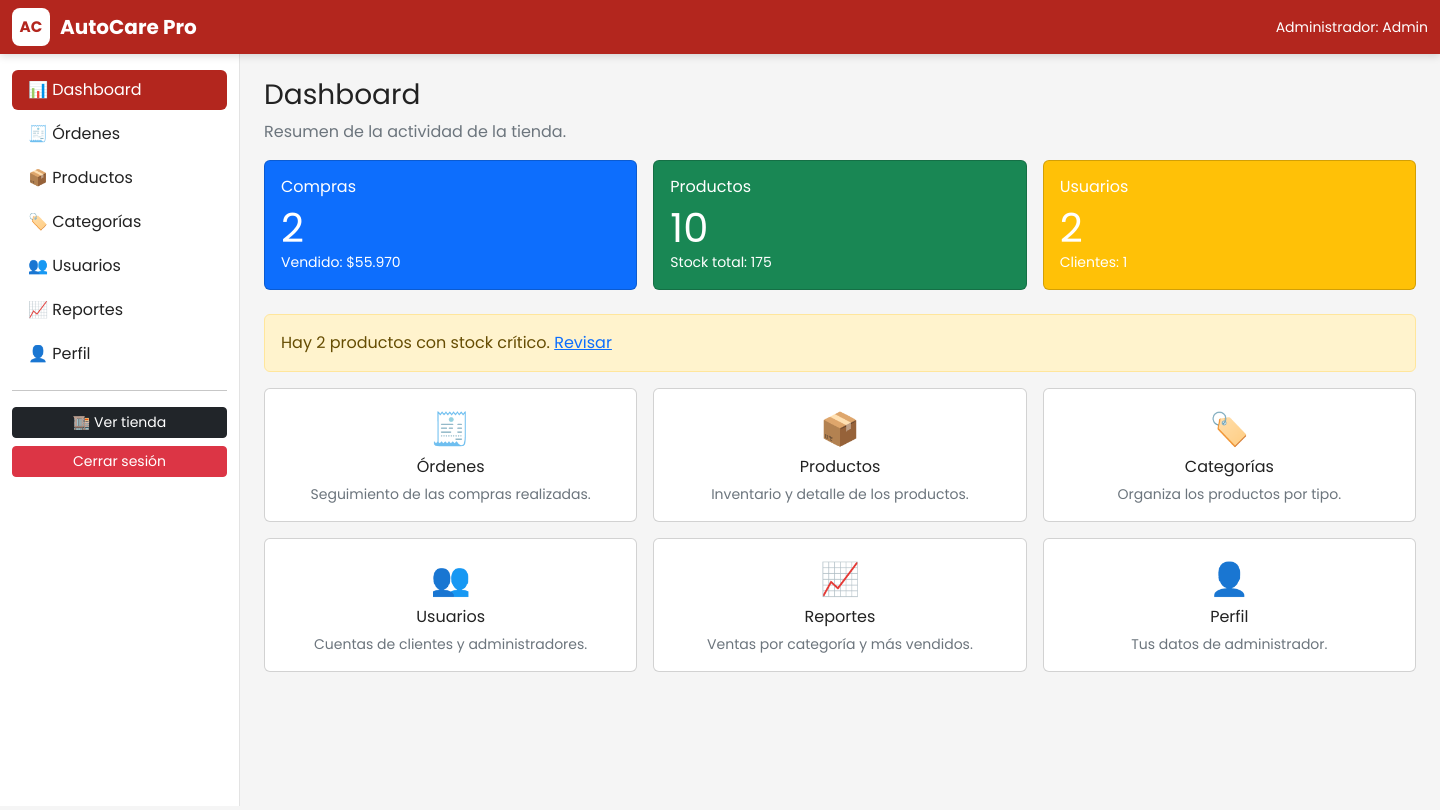
Panel de administración › acceso › cerrar sesión vuelve al login
This screenshot has width=1440, height=810.
Click the button "Cerrar sesión" at (120, 462), box [12,446,227,477]
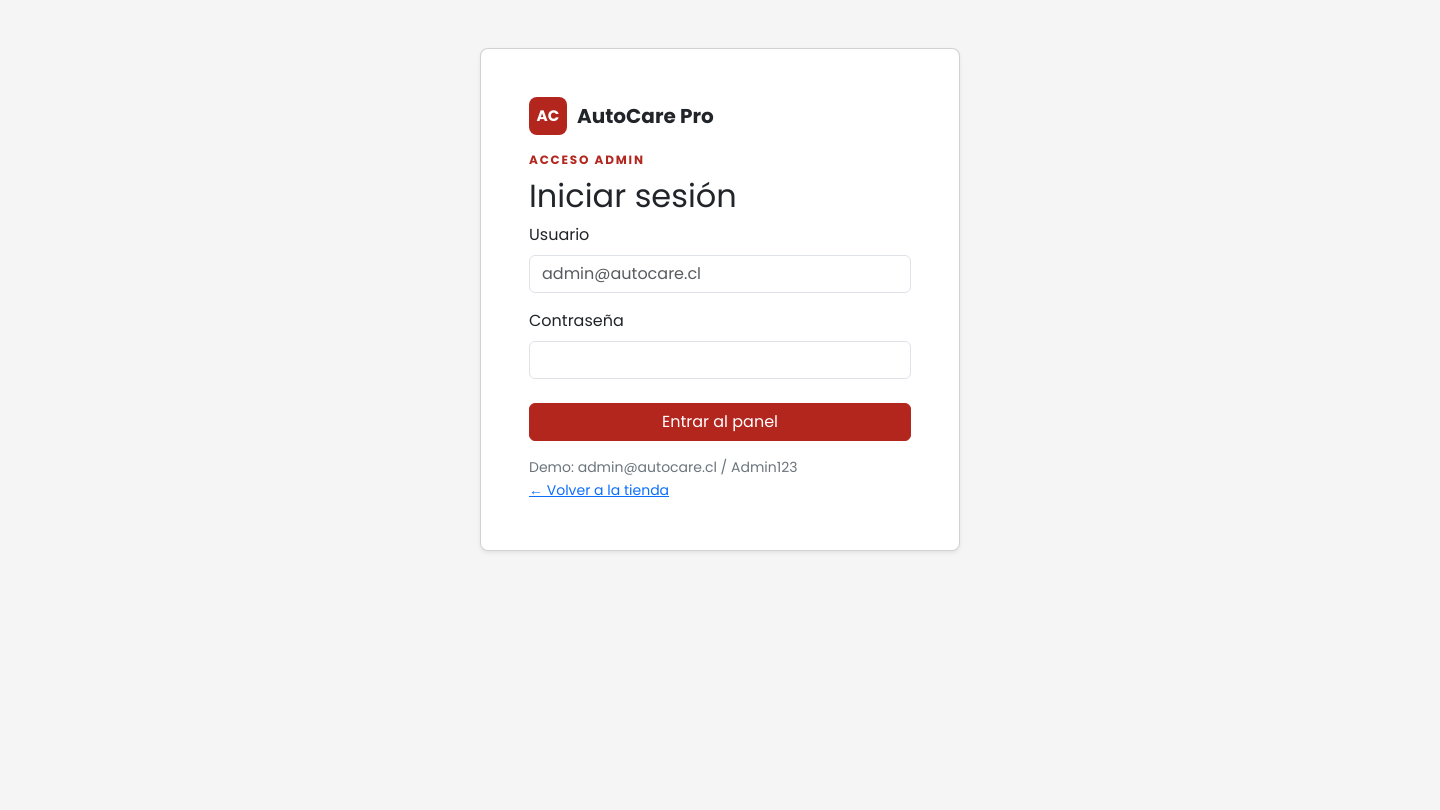
Now the button "Entrar al panel" is shown, box [529,403,911,441]
